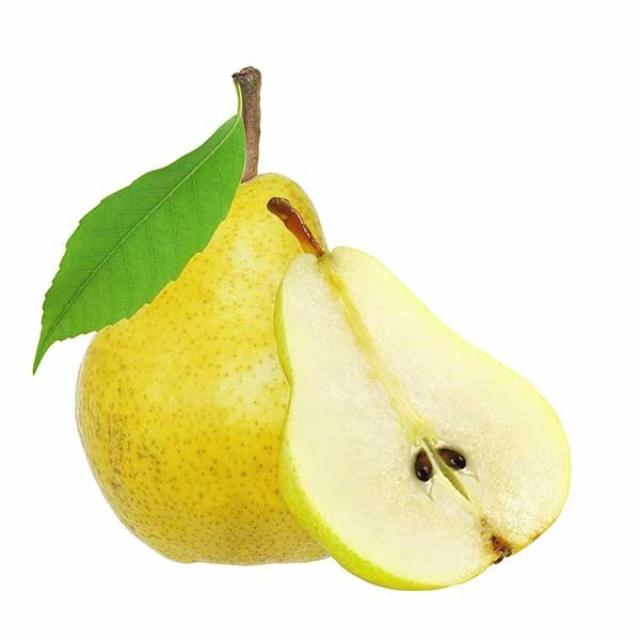Quả lê: (264, 193, 572, 592)
